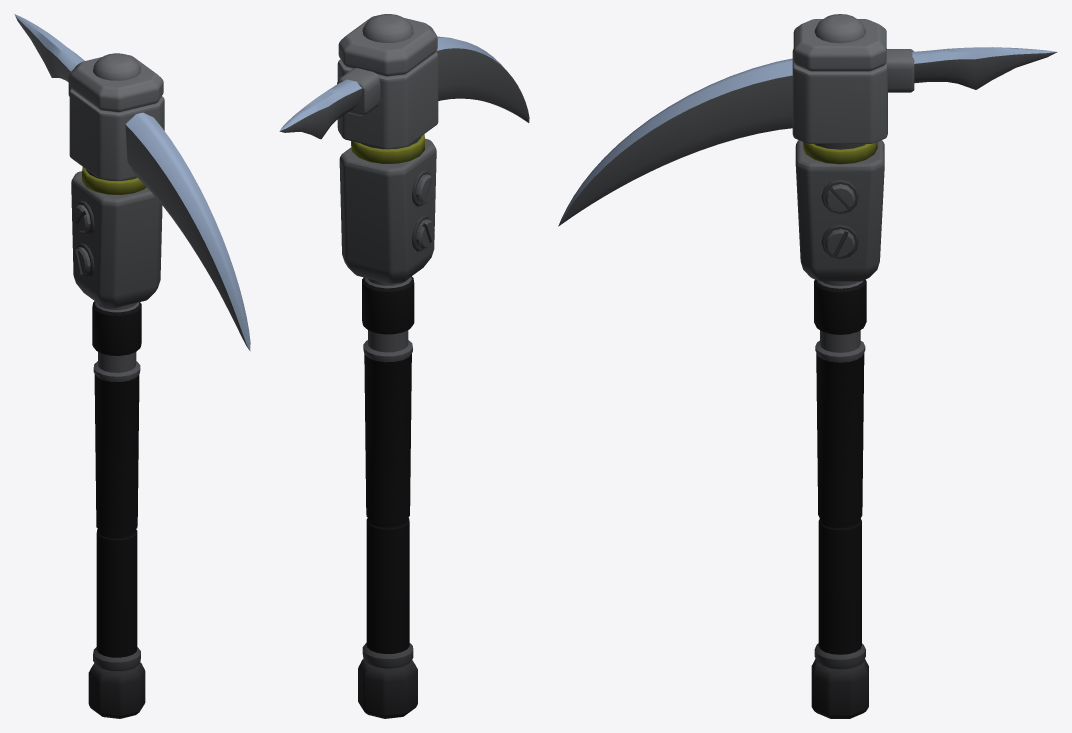
The model's file is pickaxe.glb.
3 renders of one model, left to right at view 1: azimuth 30°, elevation 25°; view 2: azimuth 150°, elevation 25°; view 3: azimuth 270°, elevation 25°, orthographic. The views are drawn at different scales.
Parts seen in each view (by area): view 1: pickaxe_collar, pickaxe_handle, pickaxe_blade_front, pickaxe_end_cap, pickaxe_spike_back, pickaxe_accent_ring; view 2: pickaxe_collar, pickaxe_handle, pickaxe_blade_front, pickaxe_spike_back, pickaxe_end_cap, pickaxe_accent_ring; view 3: pickaxe_collar, pickaxe_handle, pickaxe_blade_front, pickaxe_spike_back, pickaxe_end_cap, pickaxe_accent_ring.
Boxes of the visible parts, x1,y1,x2,y2 form: pickaxe_collar: (69,53,164,308); pickaxe_handle: (92,301,141,670); pickaxe_blade_front: (125,112,250,351); pickaxe_end_cap: (88,662,145,718); pickaxe_spike_back: (14,14,84,96); pickaxe_accent_ring: (82,167,146,194); pickaxe_collar: (337,14,438,283); pickaxe_handle: (362,276,414,668); pickaxe_blade_front: (436,36,529,122); pickaxe_spike_back: (279,68,380,139); pickaxe_end_cap: (358,659,417,718); pickaxe_accent_ring: (351,134,424,163); pickaxe_collar: (792,14,887,281); pickaxe_handle: (814,279,866,668); pickaxe_blade_front: (558,58,792,226); pickaxe_spike_back: (885,47,1057,92); pickaxe_end_cap: (811,659,868,718); pickaxe_accent_ring: (803,142,877,164).
Bounding box in the file's own units: 0.122 × 1 × 0.6553.
